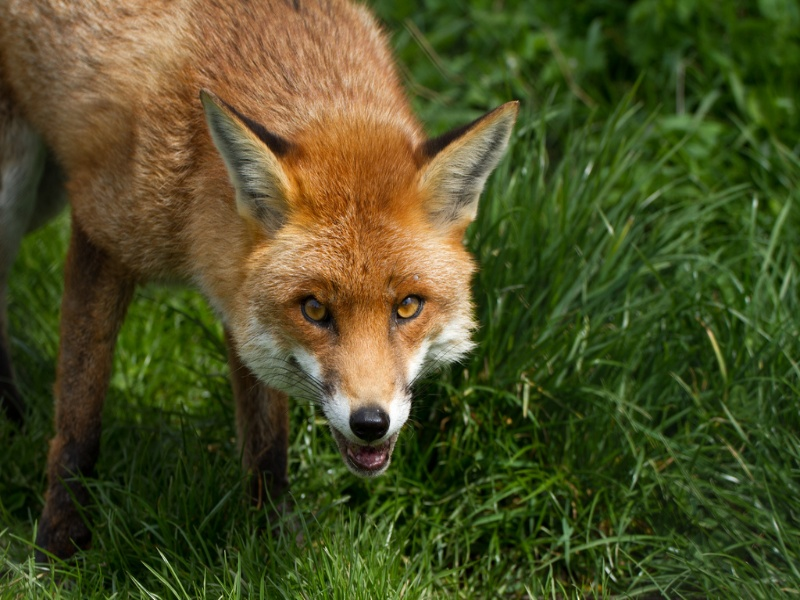fox: (1, 5, 518, 571)
